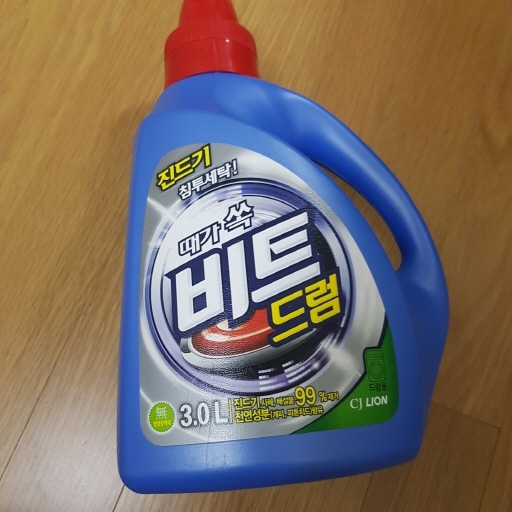Plastic_1: (115, 1, 448, 483)
